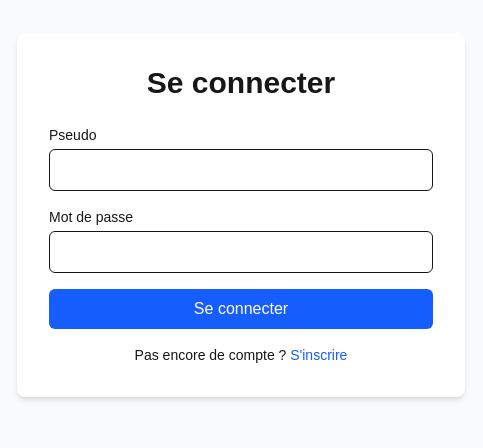
Test: LoginPage › affiche une erreur si la connexion échoue
Type "baduser" into the field labelled "Pseudo" at (241, 170), box [49,149,433,191]
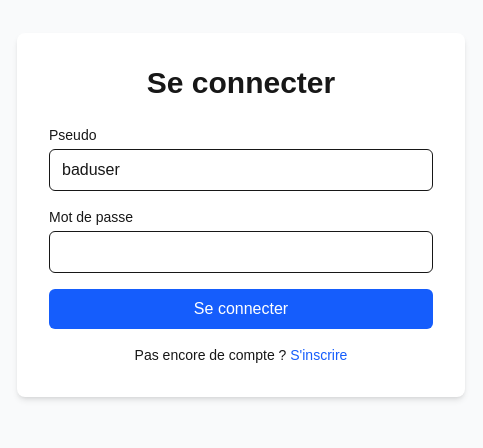
Type "badpass" into the password field labelled "Mot de passe" at (241, 252), box [49,231,433,273]
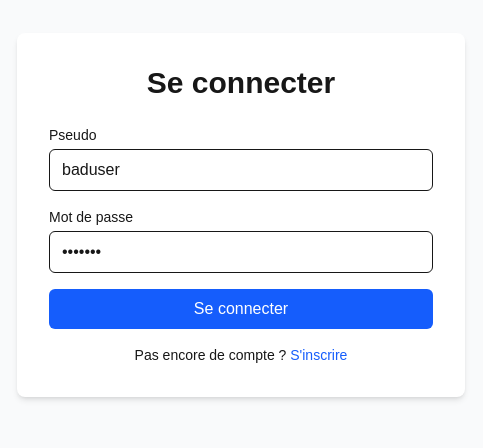
Click the button "Se connecter" at (241, 309), box [49,289,433,329]
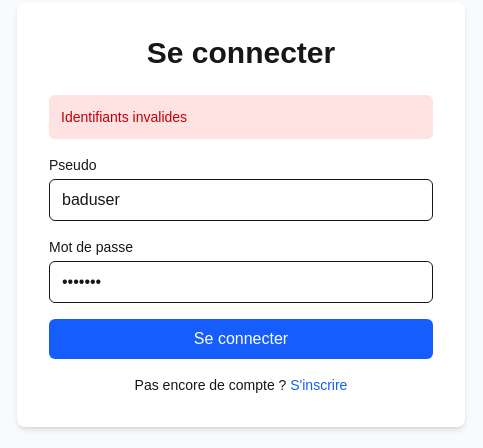
Check: the text "Identifiants invalides" is shown, box [49,95,433,139]
